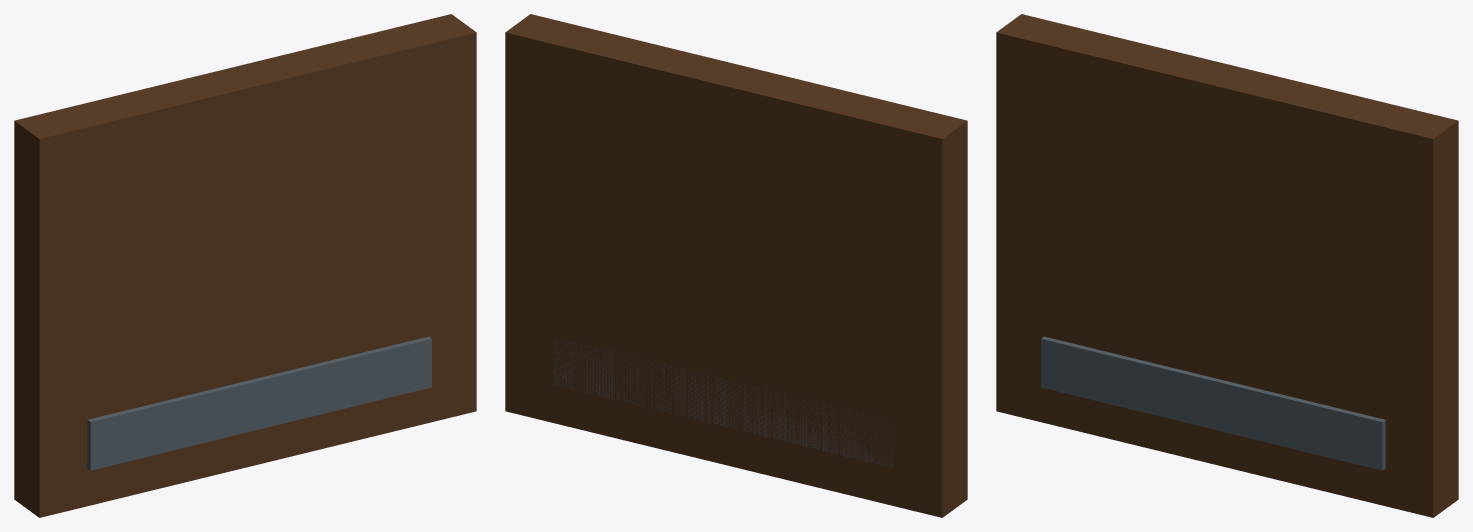
File: door.breachable_wood.glb
3 renders of one model, left to right at view 1: azimuth 30°, elevation 25°; view 2: azimuth 150°, elevation 25°; view 3: azimuth 330°, elevation 25°, orthographic.
Visible parts, largest first — view 1: door_panel, kick_plate; view 2: door_panel, kick_plate; view 3: door_panel, kick_plate.
Part boxes in pixels (x1,y1,x2,y2): door_panel: [14, 14, 476, 517]; kick_plate: [87, 336, 431, 470]; door_panel: [505, 14, 967, 517]; kick_plate: [553, 337, 894, 467]; door_panel: [996, 14, 1458, 517]; kick_plate: [1041, 336, 1385, 470].
Size of the model in its own units: 3.2 by 2.65 by 0.36.
